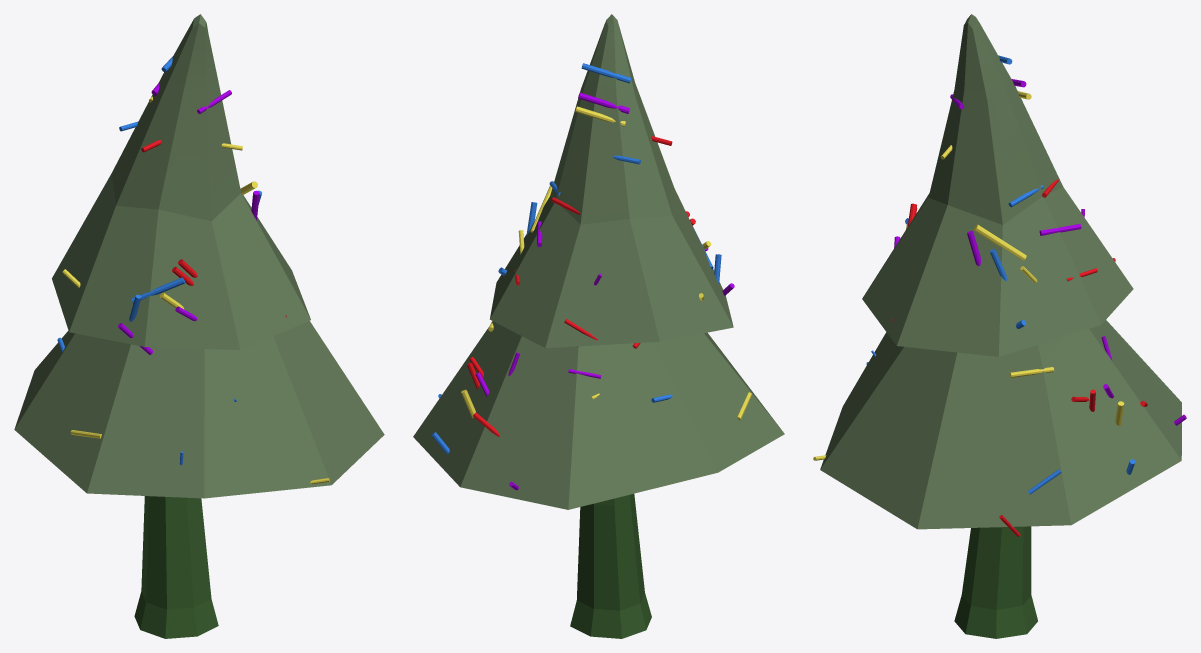
The model's file is Pine_Trees_Pack_Tree_stem_01.021.fbx.
The picture shows the model from 3 angles, left to right: view 1: azimuth 30°, elevation 25°; view 2: azimuth 150°, elevation 25°; view 3: azimuth 270°, elevation 25°; orthographic projection. The views are drawn at different scales.
Visible parts, largest first — view 1: Pine_Trees_Pack_Tree_stem_01.021; view 2: Pine_Trees_Pack_Tree_stem_01.021; view 3: Pine_Trees_Pack_Tree_stem_01.021.
Part boxes in pixels (x1,y1,x2,y2): Pine_Trees_Pack_Tree_stem_01.021: (14, 14, 384, 638); Pine_Trees_Pack_Tree_stem_01.021: (413, 14, 784, 638); Pine_Trees_Pack_Tree_stem_01.021: (813, 14, 1186, 638).
Bounding box in the file's own units: 147 × 277 × 153.
